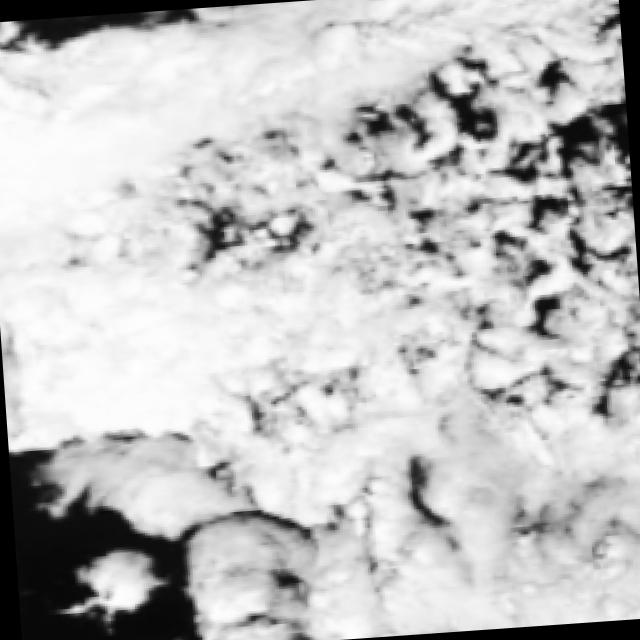CB: (2, 266, 210, 432), (0, 85, 150, 278), (140, 42, 313, 141)
